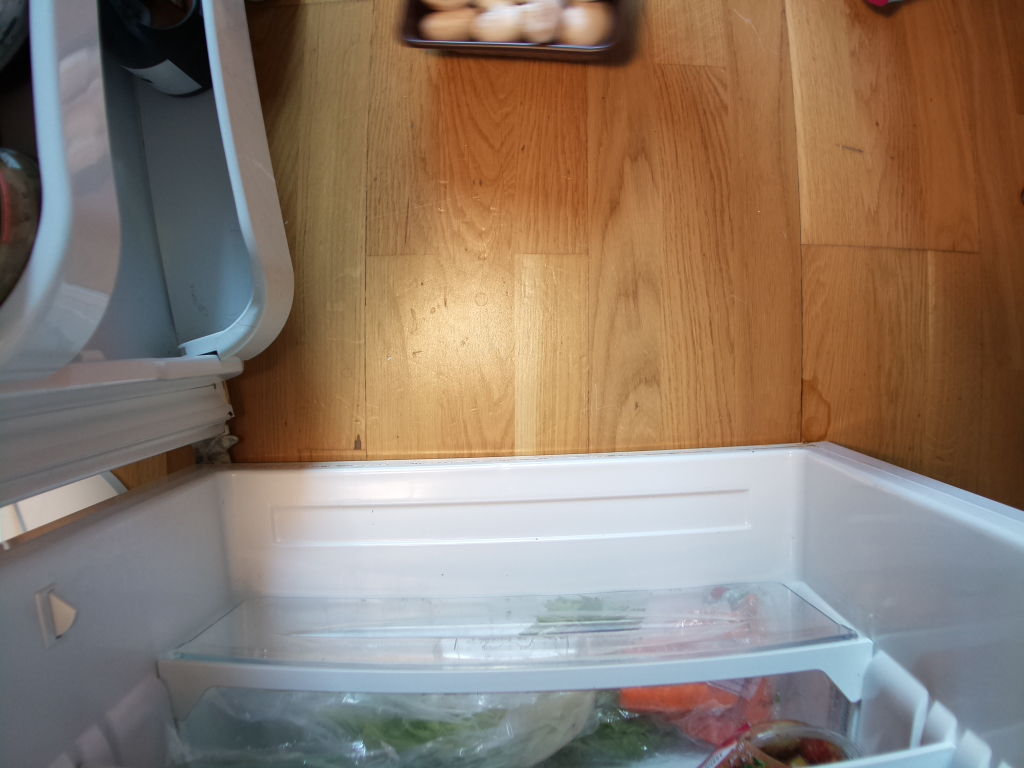mushrooms: (399, 1, 636, 79)
